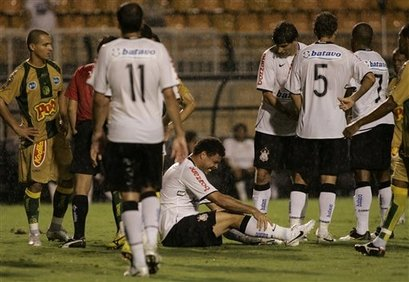10+: (2, 1, 407, 276)
down: (142, 136, 321, 256)
